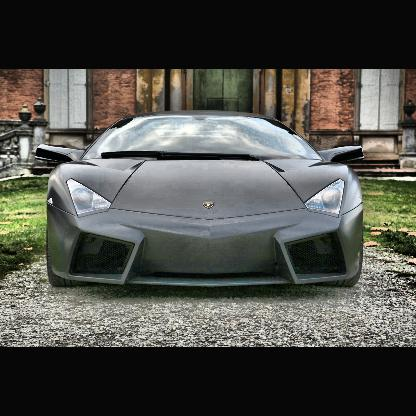Lamborghini Reventon Coupe 2008: (35, 110, 369, 292)
